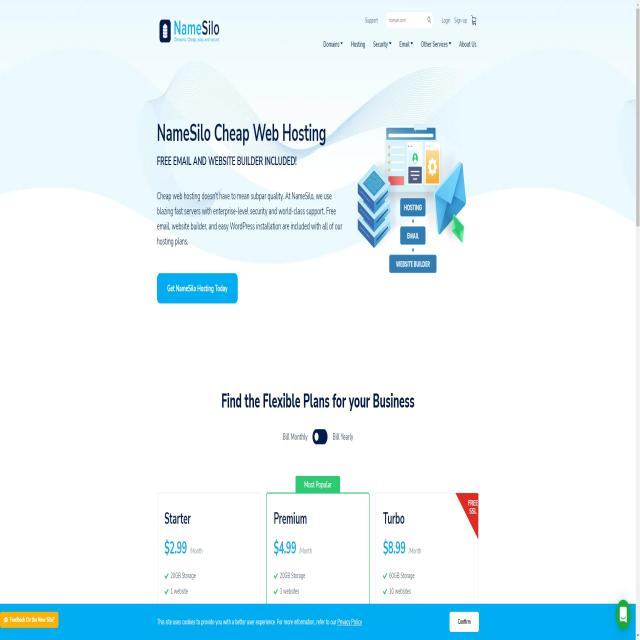menu-bar: (360, 5, 480, 32)
search: (386, 10, 433, 30)
tab-bar: (318, 36, 480, 54)
